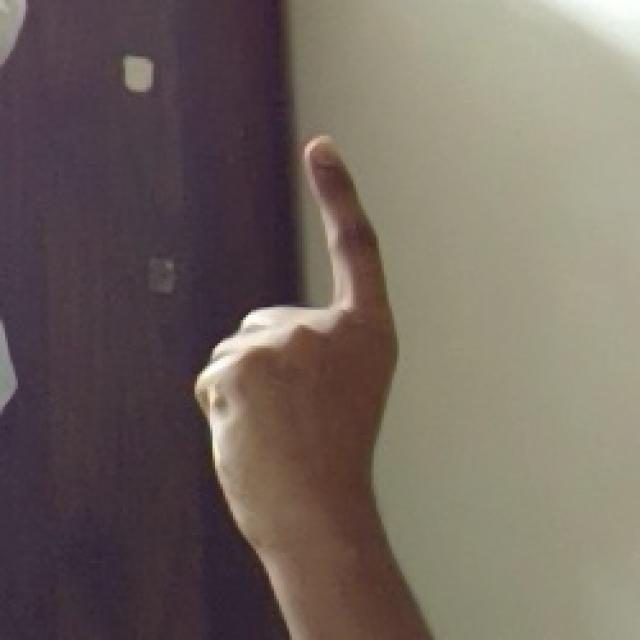Alphabet-I: (180, 136, 464, 602)
